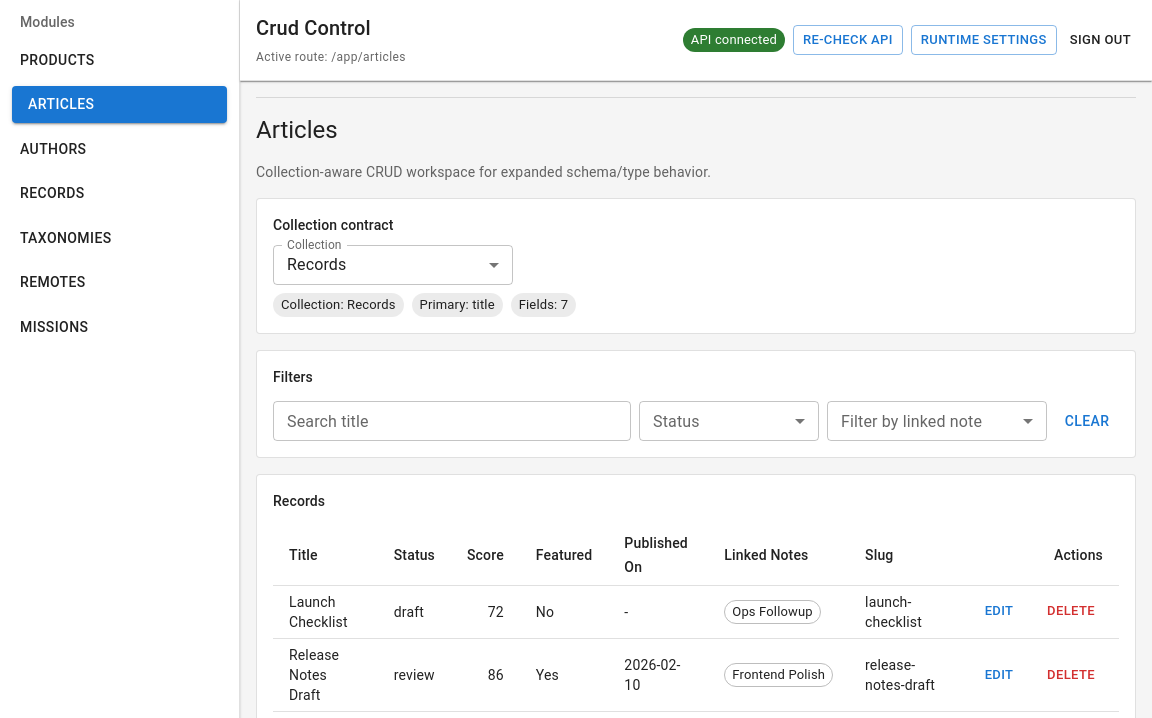
Test: app-shell hydration: collection workspace state is isolated per module route
The image size is (1152, 718).
Expected: the heading "Articles" is shown, [256,116,338,144]
Expected: the text "Collection: Records" is shown, [273,295,404,315]
Press the mouse on the dropdown named "Collection" at (317,265), box [287,255,346,274]
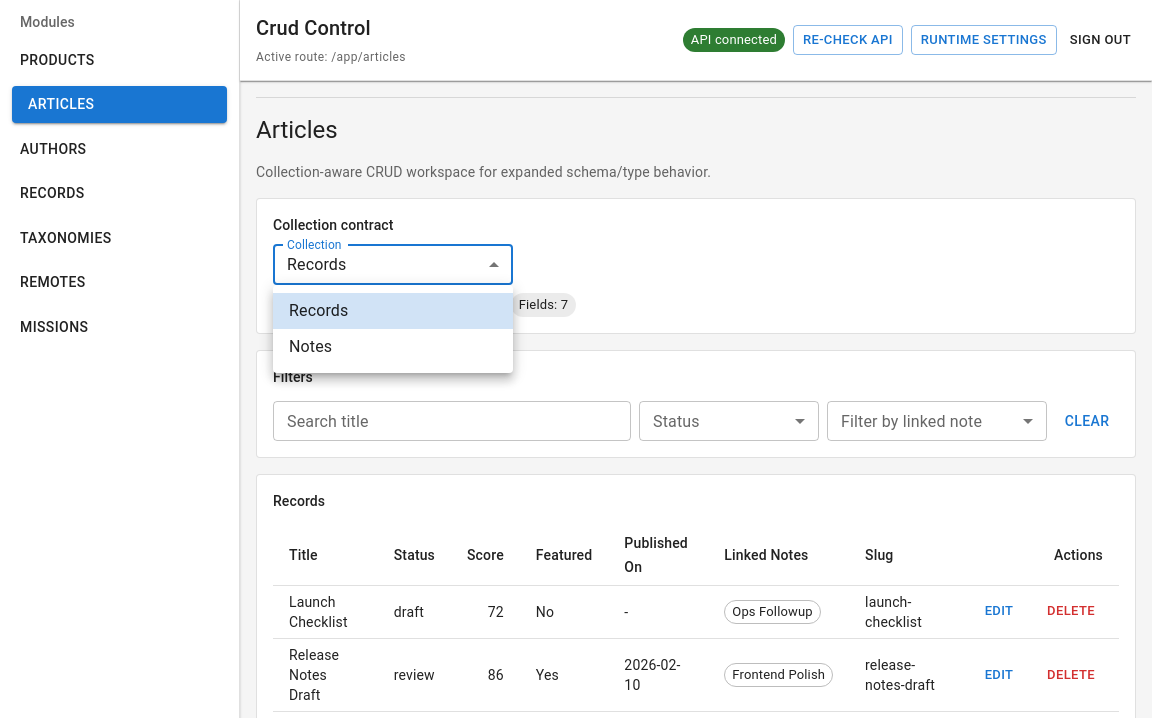
Click the option "Notes".
click(311, 346)  # box [289,337,332,356]
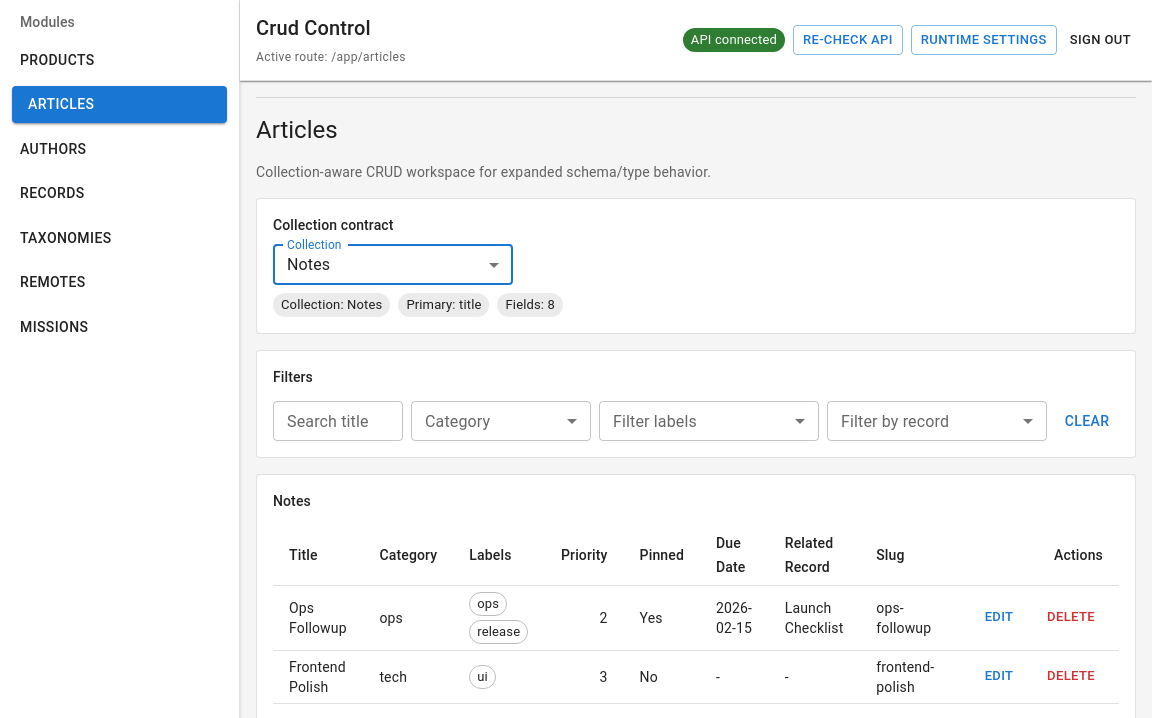
Expected: the text "Collection: Notes" is shown, [273,295,390,315]
Click the button "Authors".
click(120, 149)  # box [12,131,227,168]
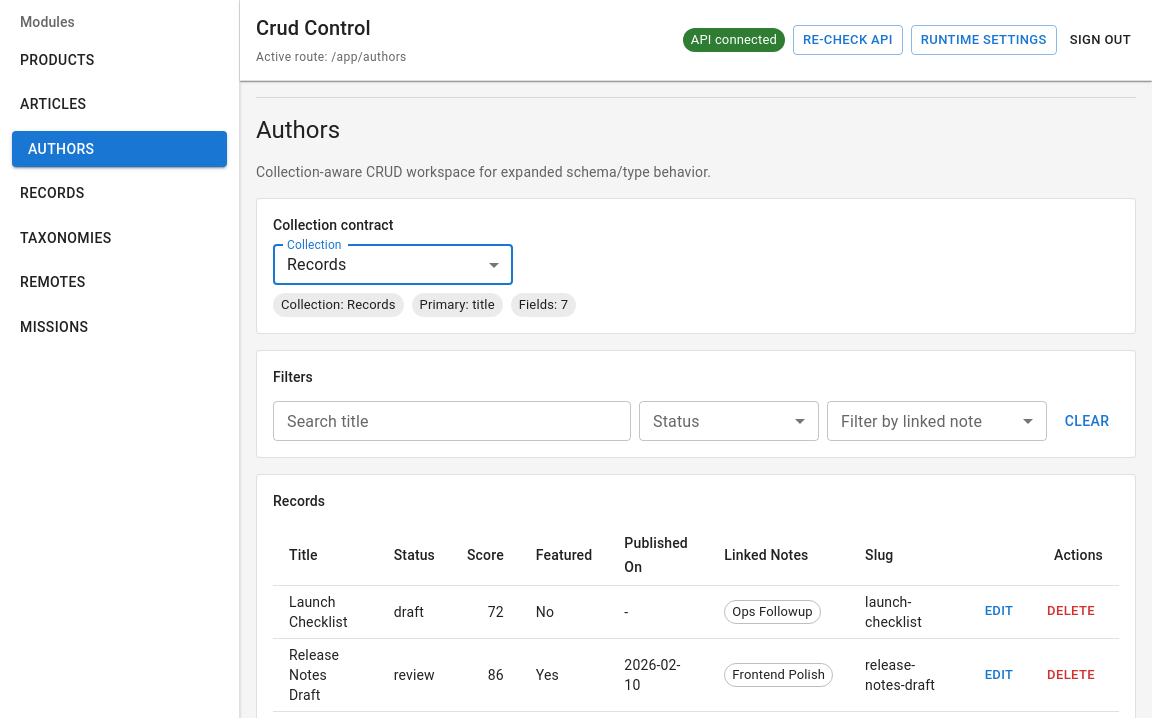
Expected: the heading "Authors" is shown, [256,116,340,144]
Expected: the text "Collection: Records" is shown, [273,295,404,315]
